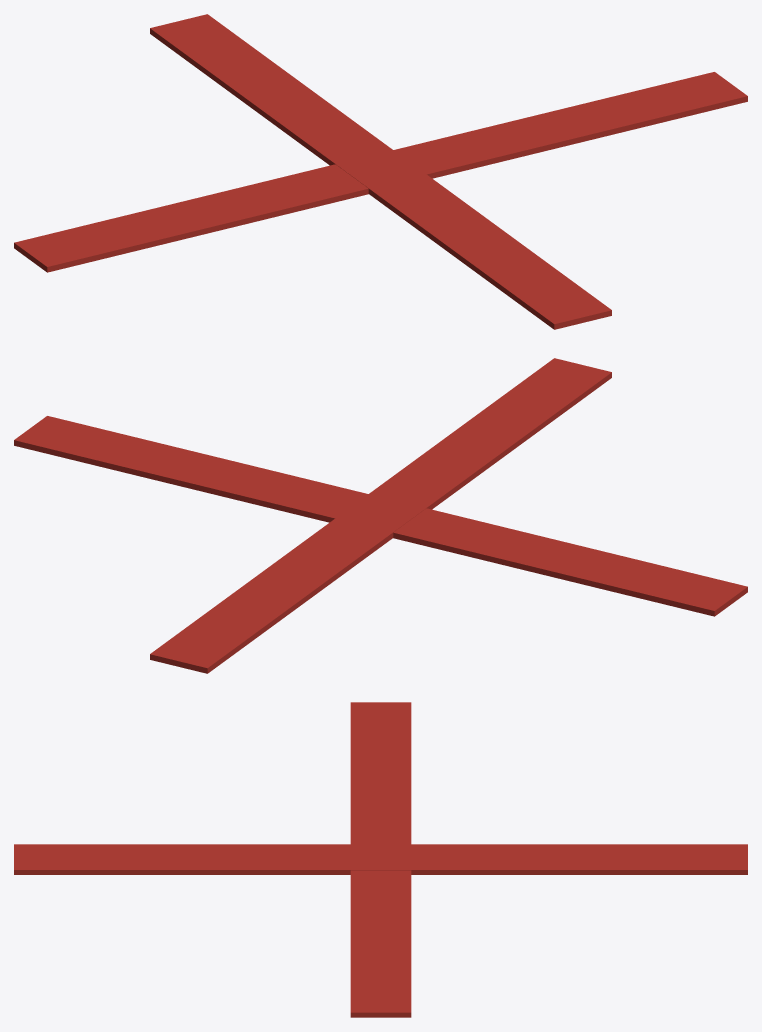
File: route.danger_cross.glb
3 views of the same model, one above another, from view 1: azimuth 30°, elevation 25°; view 2: azimuth 150°, elevation 25°; view 3: azimuth 270°, elevation 25° (orthographic). The views are drawn at different scales.
Parts seen in each view (by area): view 1: danger_b, danger_a; view 2: danger_b, danger_a; view 3: danger_b, danger_a.
Boxes of the visible parts, box(x1,y1,x2,y2) form: danger_b: box(150, 14, 611, 329); danger_a: box(14, 72, 747, 272); danger_b: box(150, 358, 611, 673); danger_a: box(14, 416, 747, 616); danger_b: box(14, 844, 747, 874); danger_a: box(350, 702, 411, 1017).
Size of the model in its own units: 3.4 by 0.027 by 3.4.
